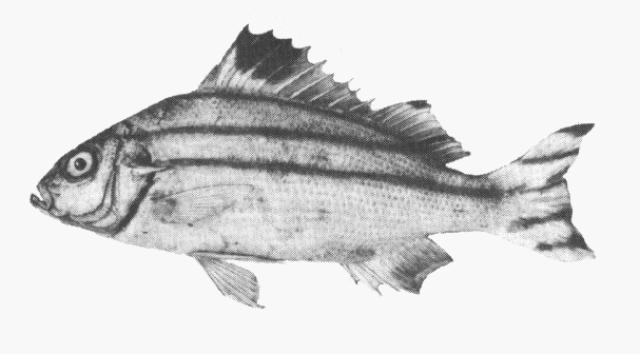Mulut: (22, 173, 52, 216)
Sirip Anal: (338, 228, 458, 296)
Sirip Dada: (143, 174, 265, 234)
Sirip Ekor: (492, 116, 620, 282)
Sirip Perut: (186, 245, 274, 314)
Sirip Punggung: (200, 16, 472, 168)
